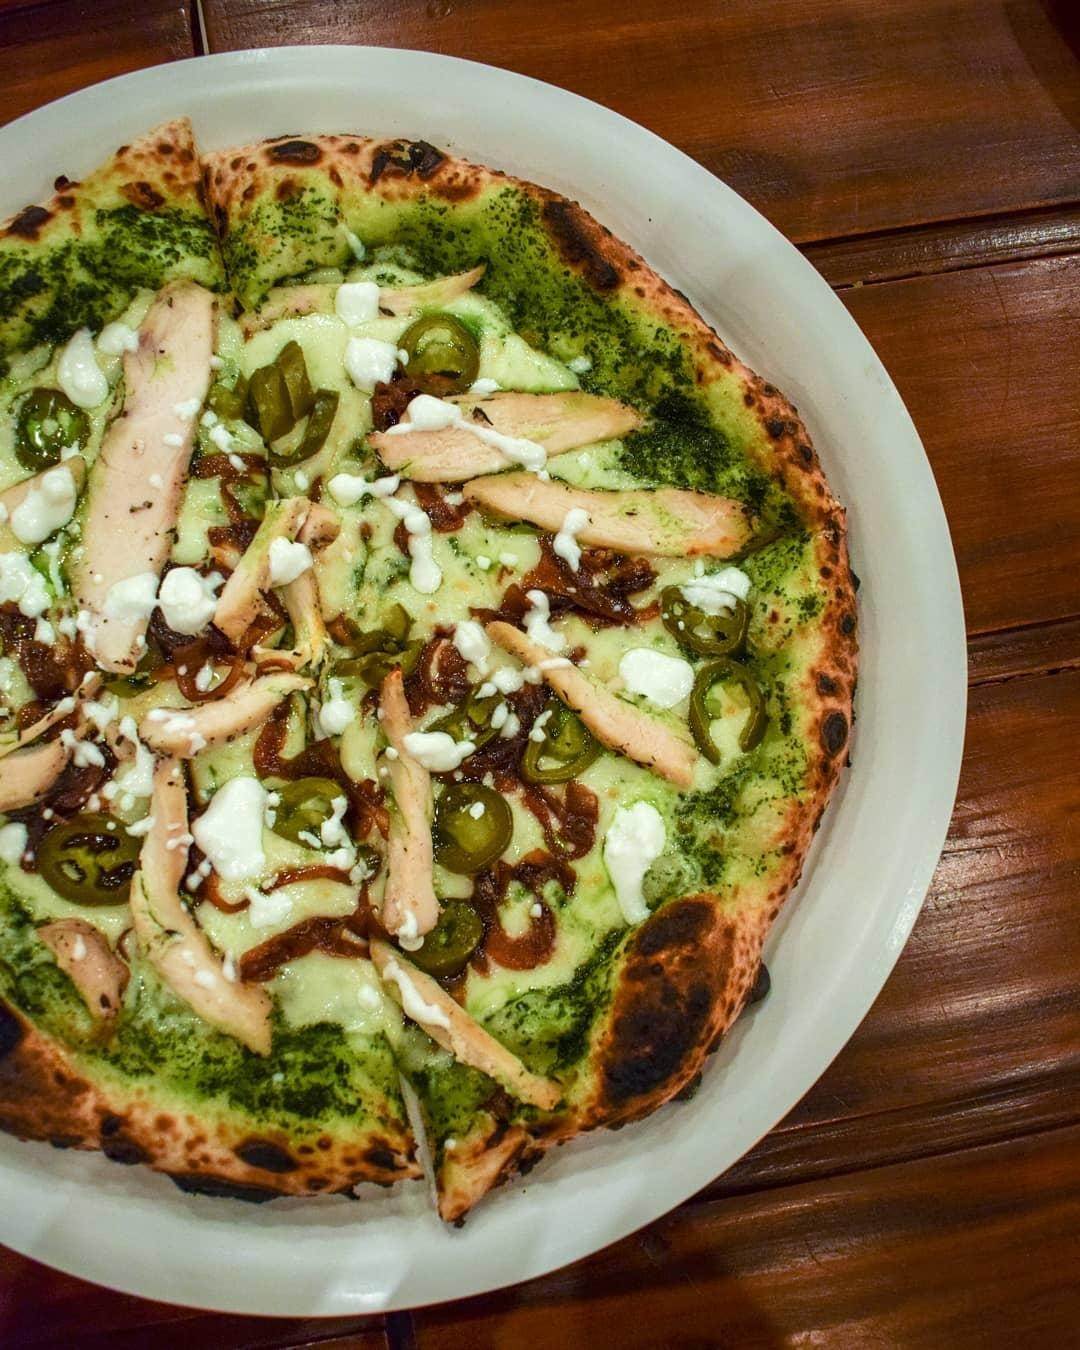Chicken: (130, 758, 285, 1059), (74, 281, 180, 667), (360, 936, 562, 1112), (484, 619, 694, 777), (458, 474, 750, 560), (380, 396, 650, 473), (214, 495, 333, 665), (376, 674, 441, 938), (137, 674, 311, 749), (34, 912, 126, 1043), (218, 283, 496, 318), (0, 453, 86, 552)
Pizza: (0, 152, 842, 1190)
